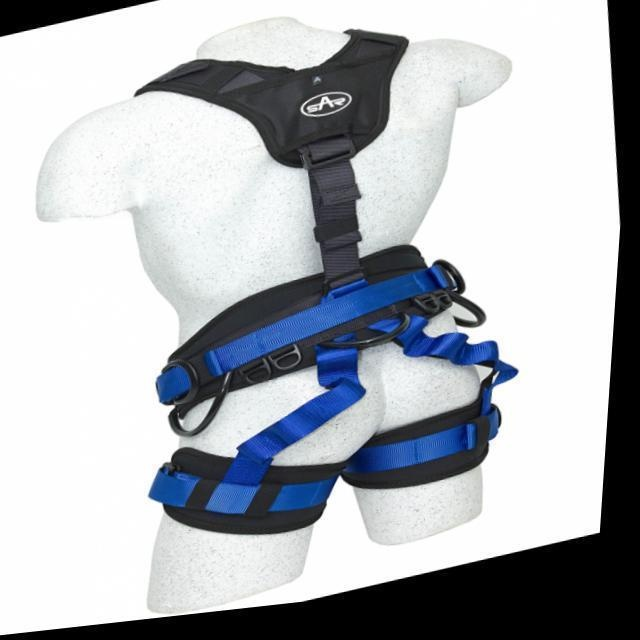Arnes_seguridad: (130, 32, 488, 489)
